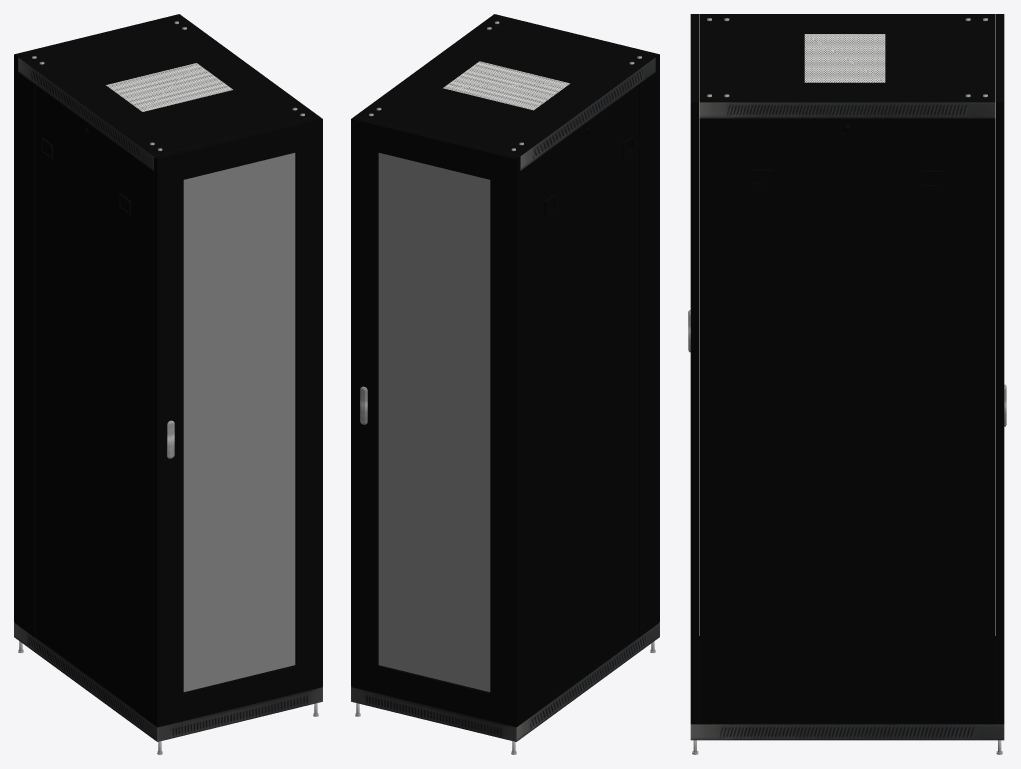
File: RKAB42.fbx
3 views of the same model, side by side, from view 1: azimuth 30°, elevation 25°; view 2: azimuth 150°, elevation 25°; view 3: azimuth 270°, elevation 25° (orthographic). The views are drawn at different scales.
Parts seen in each view (by area): view 1: frontdoor, RKAB42, Box152, backdoor; view 2: backdoor, RKAB42, Box152, frontdoor; view 3: RKAB42, Box152, backdoor, frontdoor.
Boxes of the visible parts, <box> form: frontdoor: <box>153,116,322,726</box>; RKAB42: <box>35,85,137,711</box>; Box152: <box>14,17,322,754</box>; backdoor: <box>14,14,182,624</box>; backdoor: <box>351,116,520,726</box>; RKAB42: <box>537,84,638,710</box>; Box152: <box>351,17,659,754</box>; frontdoor: <box>491,14,659,624</box>; RKAB42: <box>734,118,958,723</box>; Box152: <box>690,14,1004,754</box>; backdoor: <box>995,14,1006,723</box>; frontdoor: <box>688,14,699,723</box>.
Size of the model in its own units: 610 by 2072 by 913.
6 materials, 4 textured.
